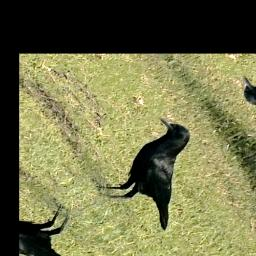Crow: (71, 111, 241, 243)
